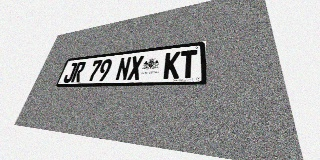7: (86, 60, 103, 82)
9: (96, 59, 113, 81)
J: (62, 62, 78, 83)
K: (163, 51, 181, 79)
N: (115, 57, 132, 81)
R: (71, 61, 86, 82)
T: (179, 49, 197, 78)
X: (127, 55, 144, 80)
